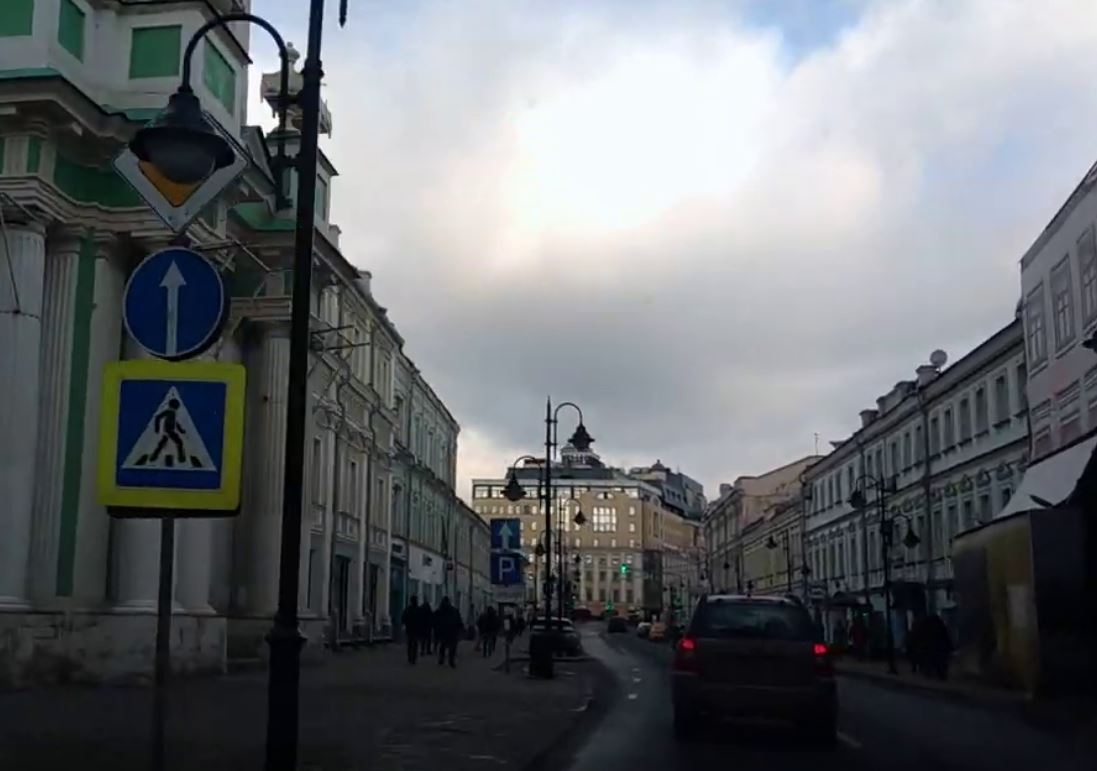Yaya Gecidi: (120, 372, 222, 498)
